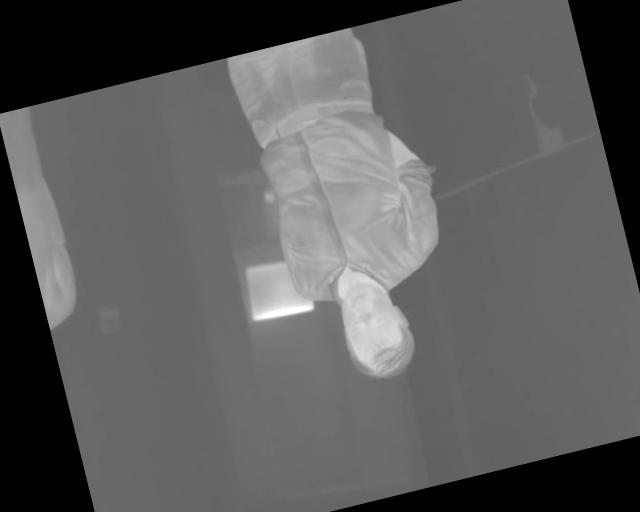face: (329, 271, 422, 387)
